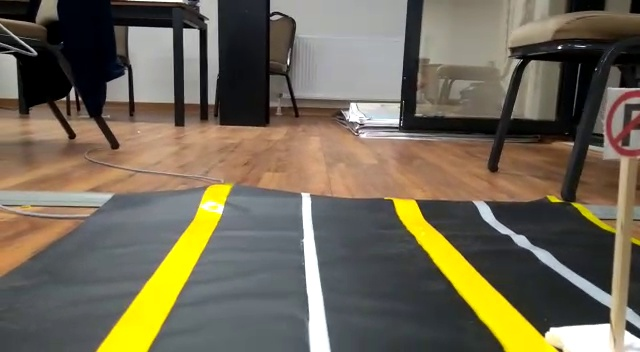park_yapilmaz: (603, 88, 640, 158)
